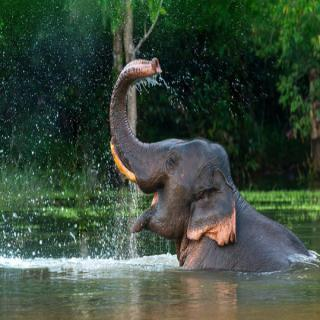Elephant: (108, 55, 319, 281)
